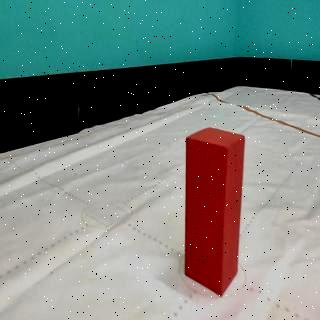redbox: (184, 125, 245, 296)
